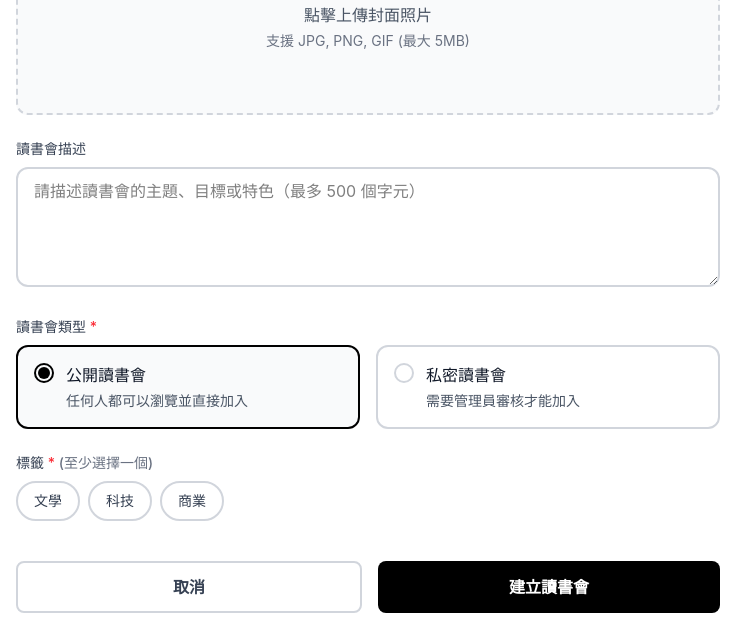
ClubCreate › should validate required fields
(page scrolled)
Click the button "建立讀書會" at (549,587), box [378,561,720,613]
(page scrolled)
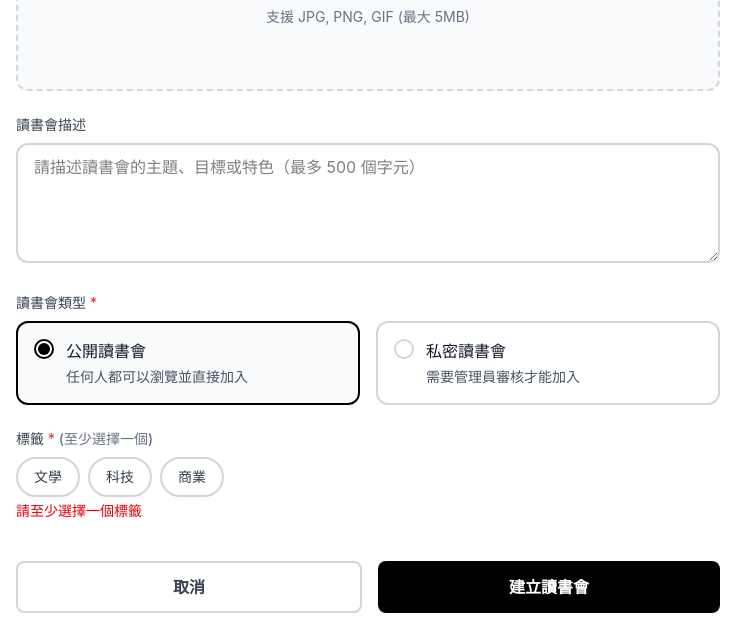
Now the text "請至少選擇一個標籤" is shown, box [16,502,142,519]
